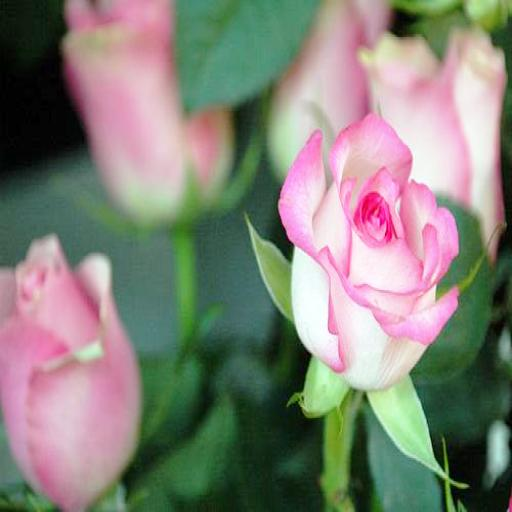rose: (278, 110, 460, 388), (1, 238, 137, 500)
